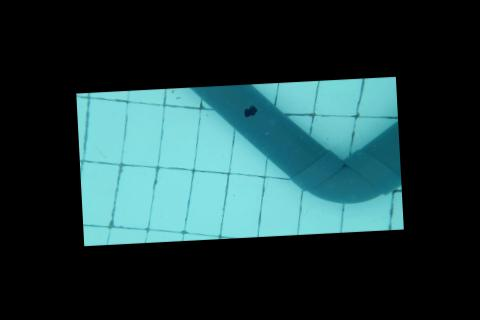kebocoran: (241, 103, 260, 118)
